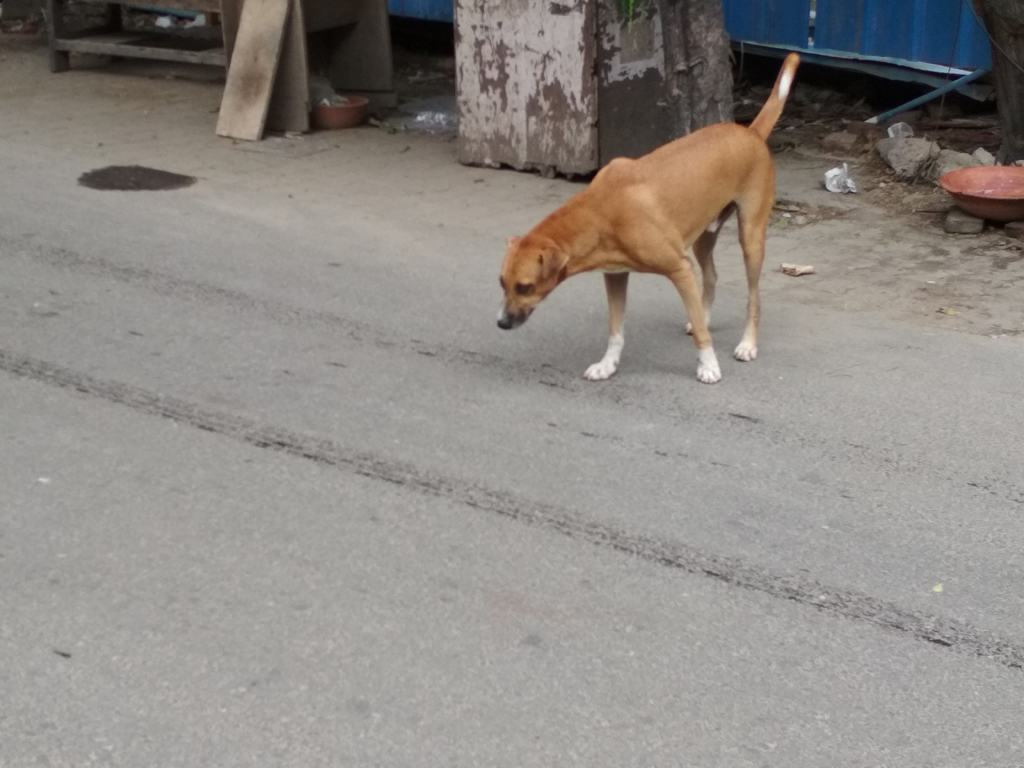dog: (495, 50, 803, 381)
